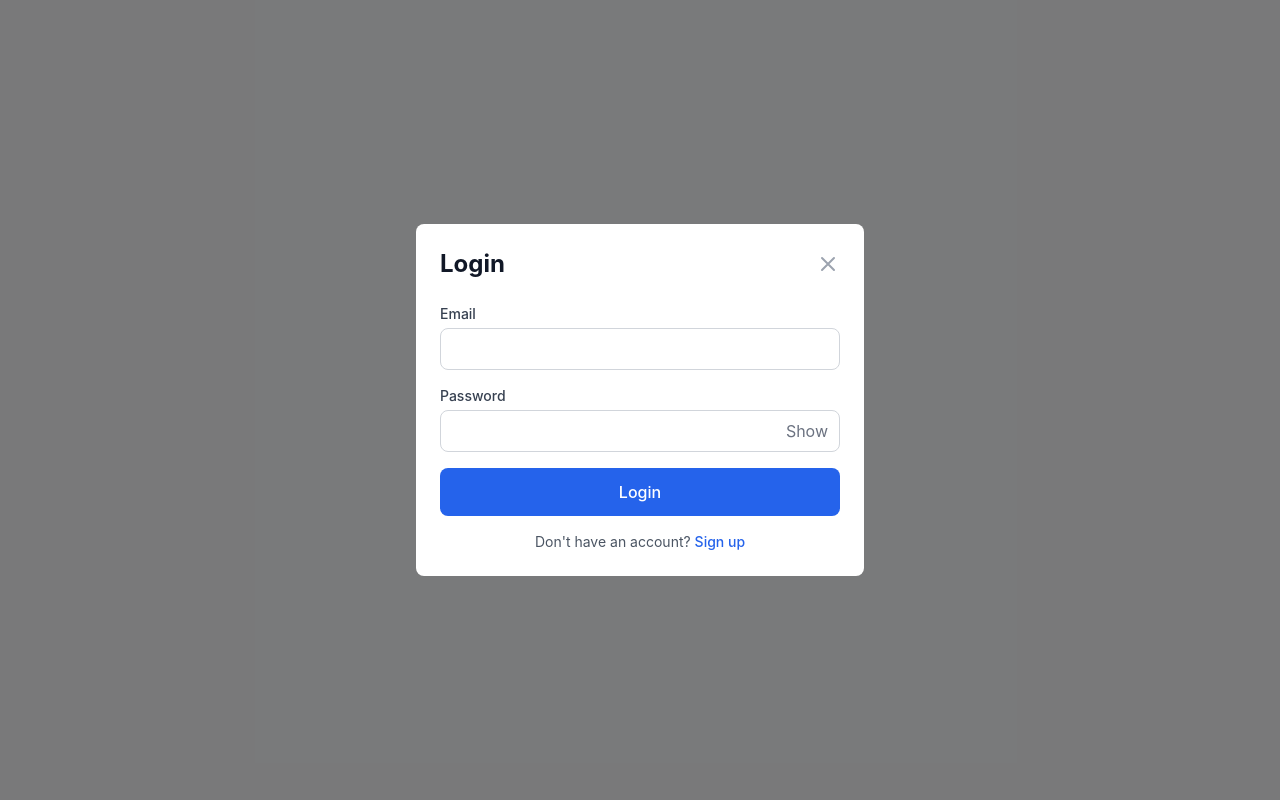
it: LoginModal - Submission Integration › Loading State › should disable submit button during loading
Note: Fill form
Type "test@example.com" into the field labelled "Email".
click(640, 349); type("test@example.com")  # box [440,328,840,370]
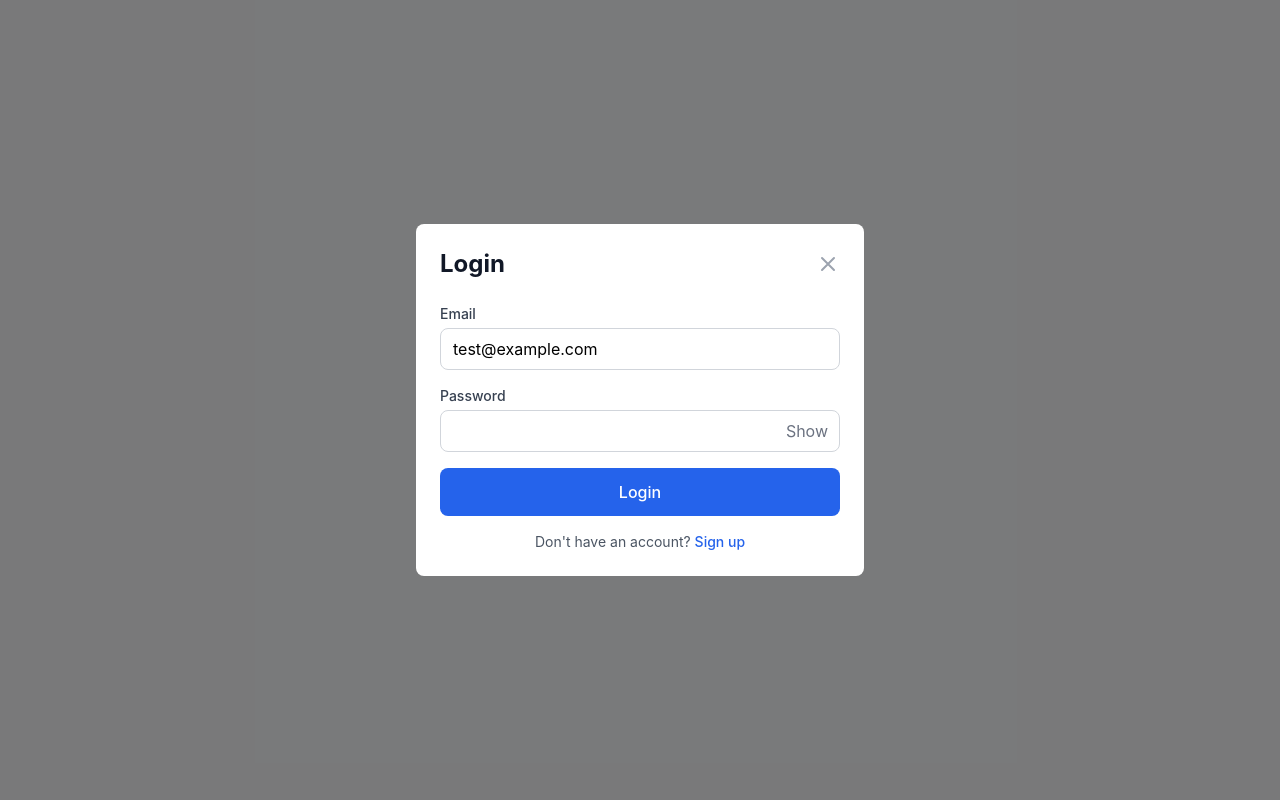
Type "password123" into the password field labelled "Password".
click(640, 431); type("password123")  # box [440,410,840,452]
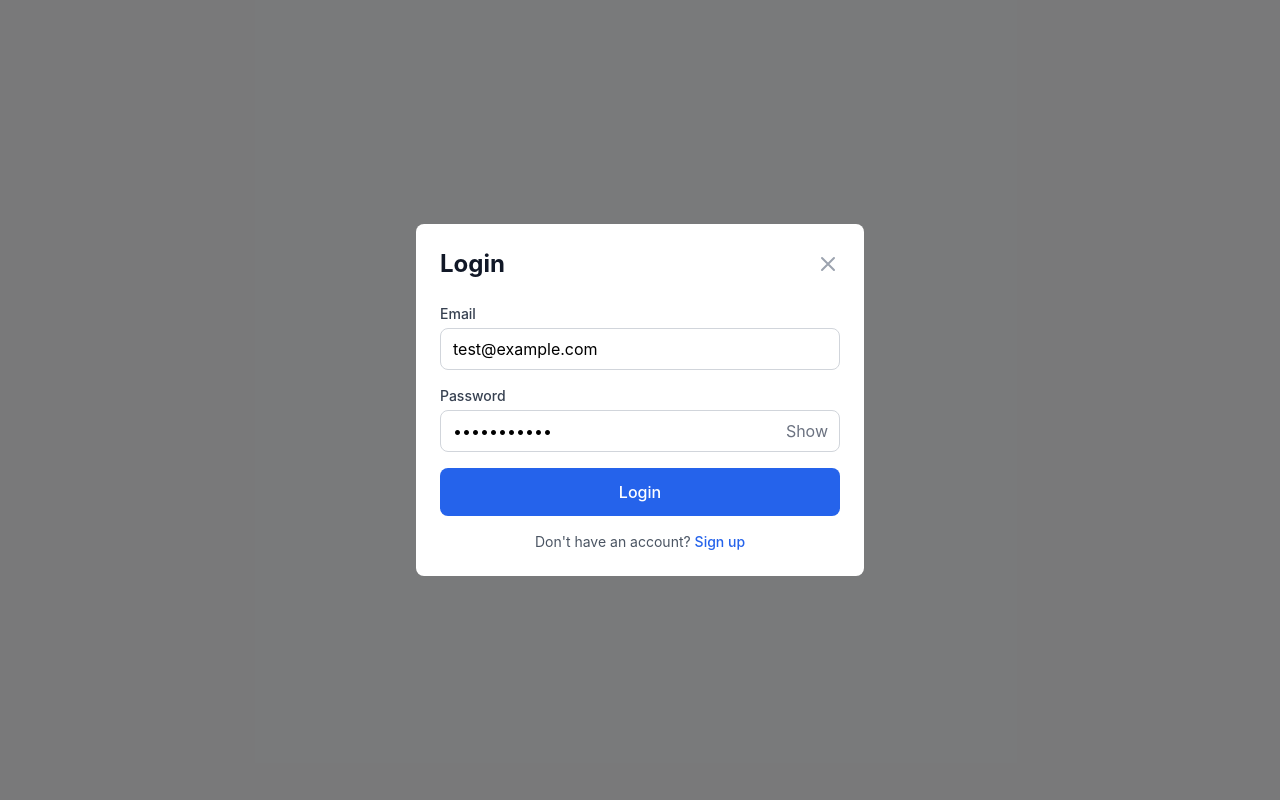
Click the button "Login".
click(640, 492)  # box [440,468,840,516]
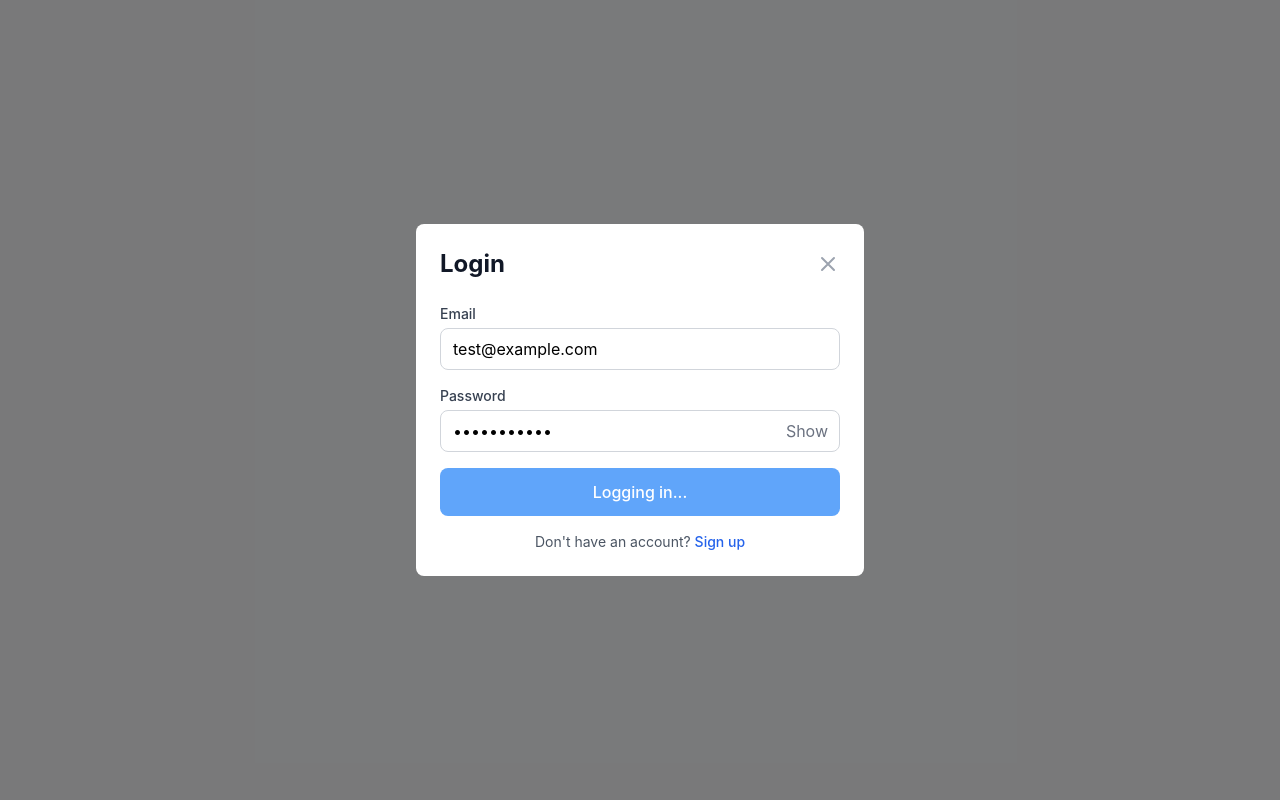
Expected: the button named "login" is disabled, [440,468,840,516]
